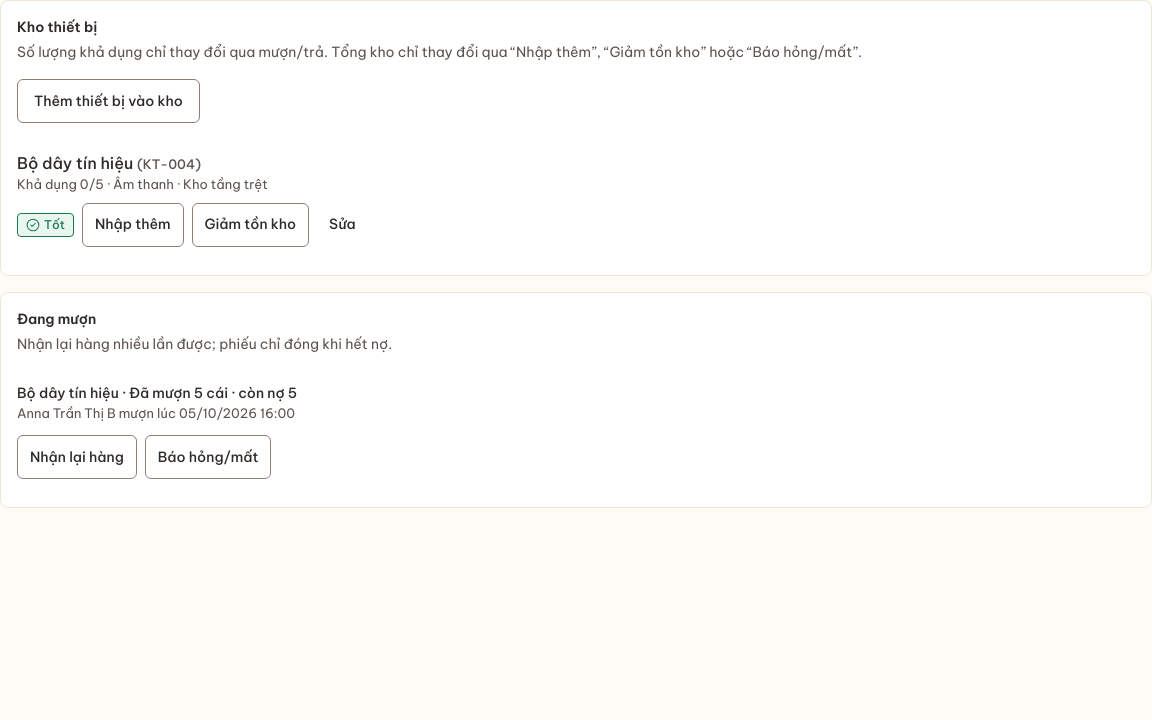
Scenario: Báo hỏng/mất — hộp xác nhận là hàng rào DUY NHẤT (D-93, AC-M09-26) › chưa xác nhận thì KHÔNG có gì được ghi
Step 1. Click the button "Báo hỏng/mất" → {"x": 208, "y": 457}, box [145,435,272,479]
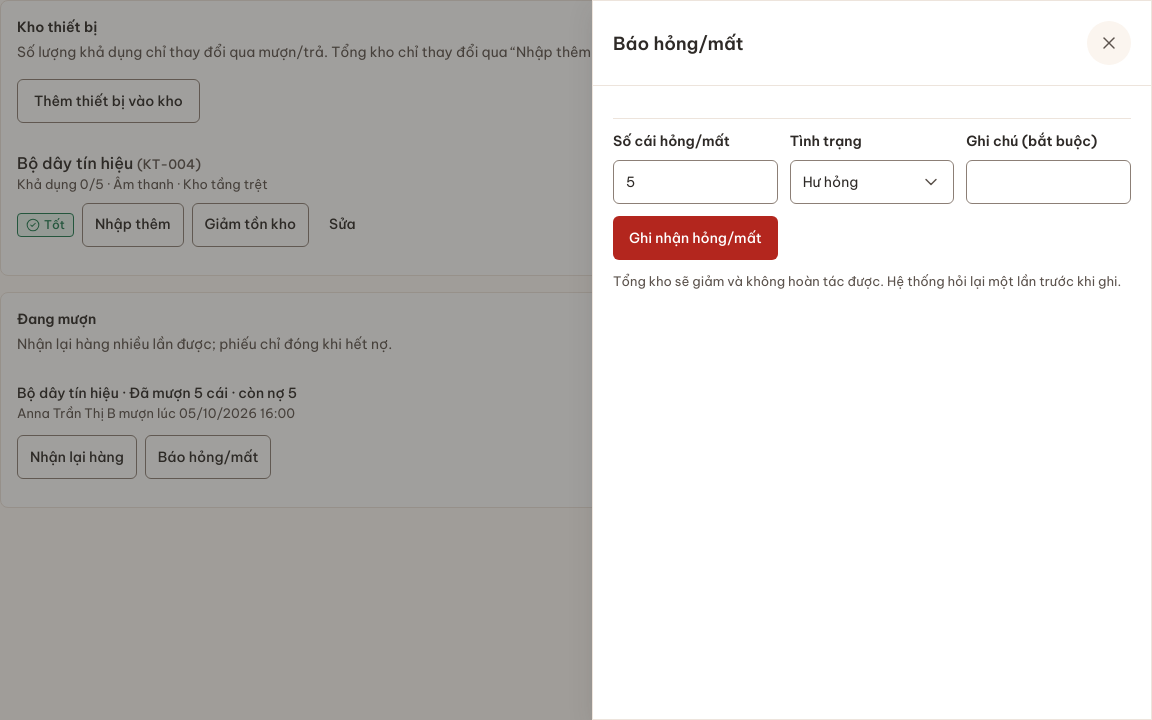
Step 2. Replace the text in the number field labelled "Số cái hỏng/mất" with "2" → {"x": 695, "y": 182}, box [613,160,778,204]
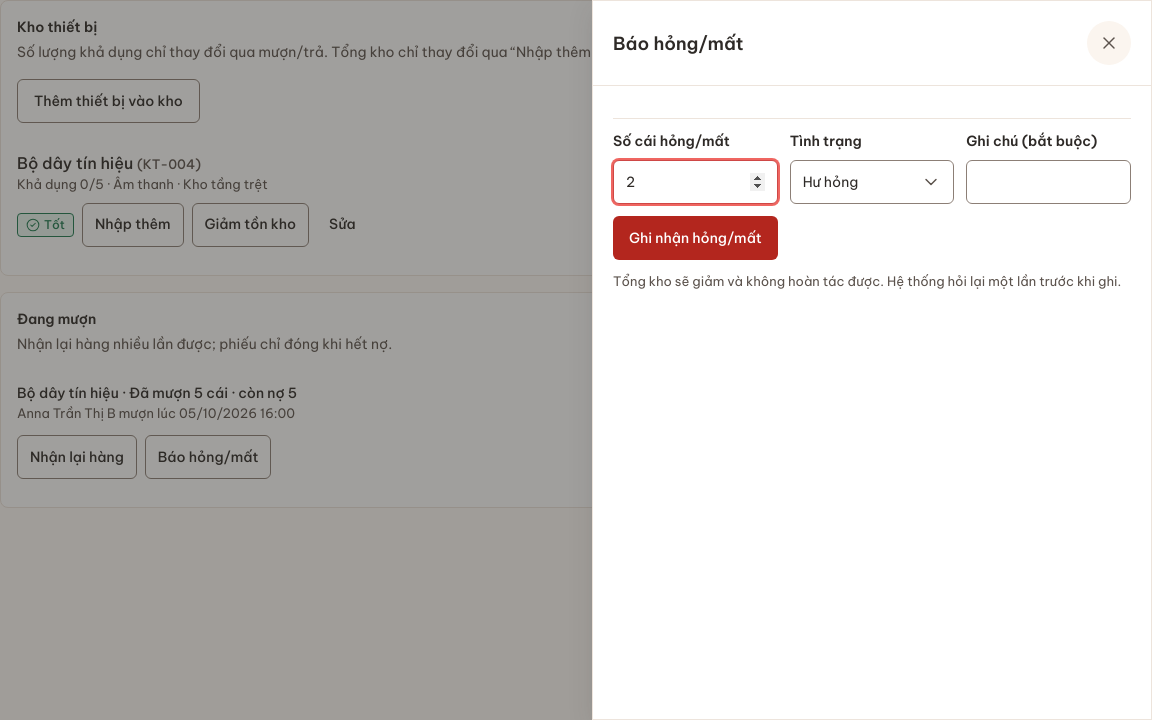
Step 3. Select "Mất" in the dropdown labelled "Tình trạng" → {"x": 826, "y": 141}, box [790,132,862,150]
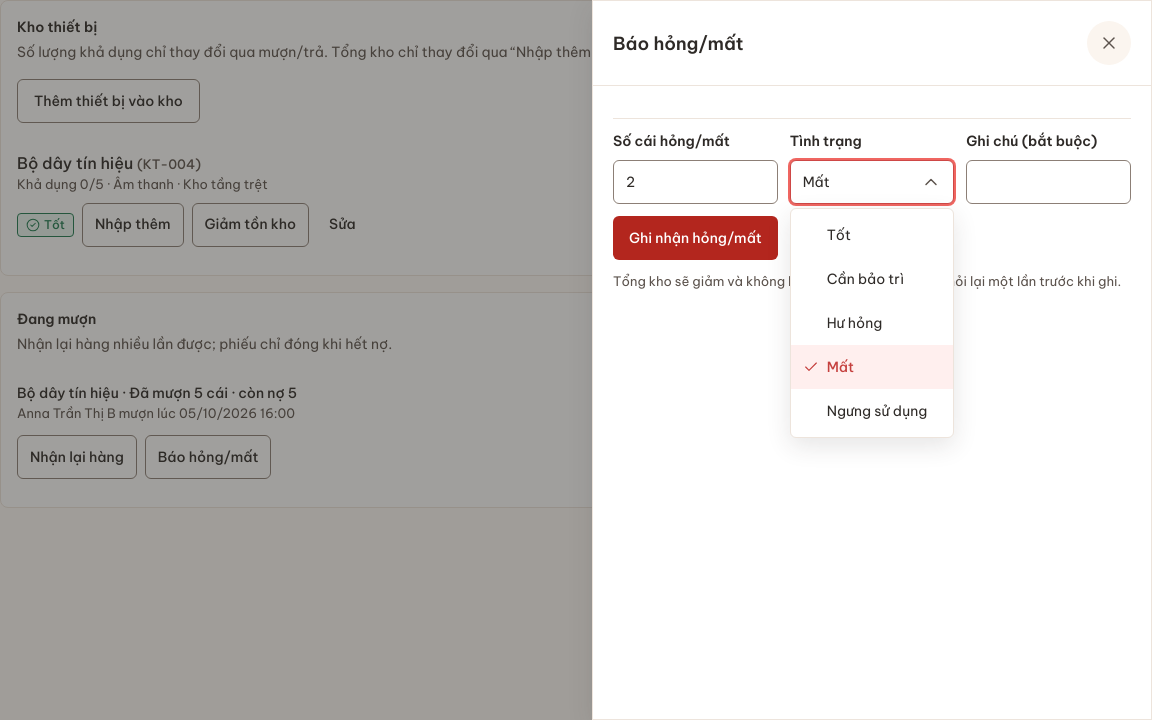
Step 4. Type "Mất trên đường chở về" into the field labelled "Ghi chú (bắt buộc)" → {"x": 1049, "y": 182}, box [966,160,1131,204]
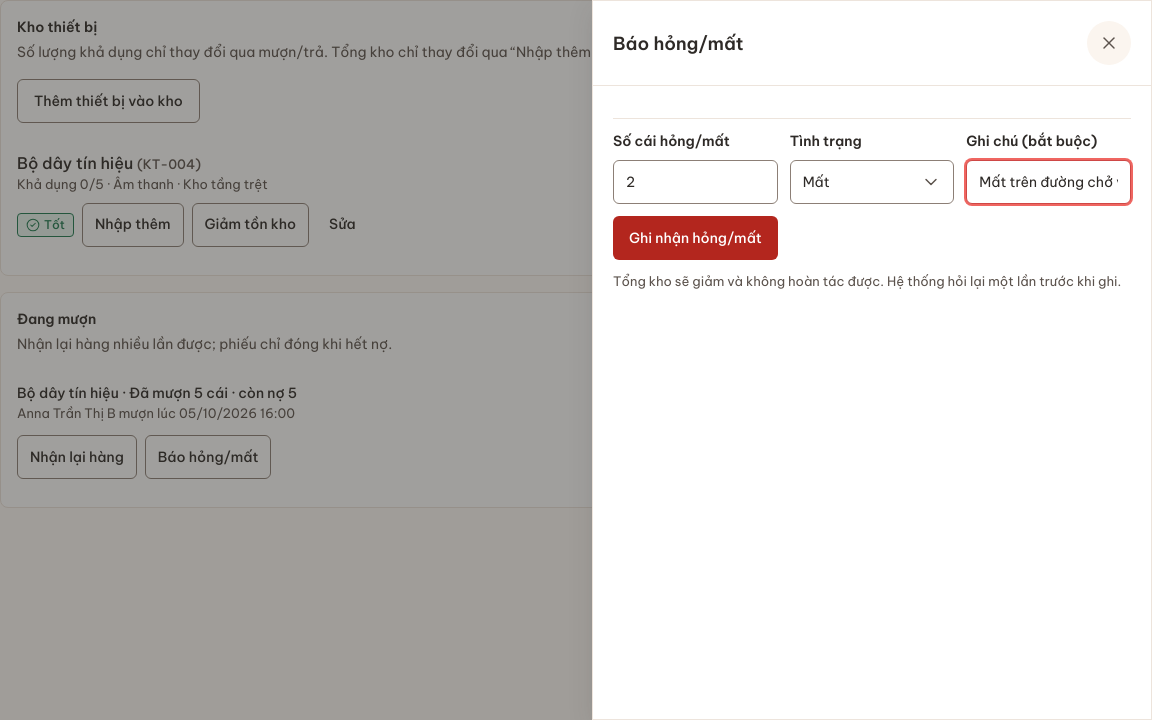
Step 5. Click the button "Ghi nhận hỏng/mất" → {"x": 695, "y": 238}, box [613,216,778,260]
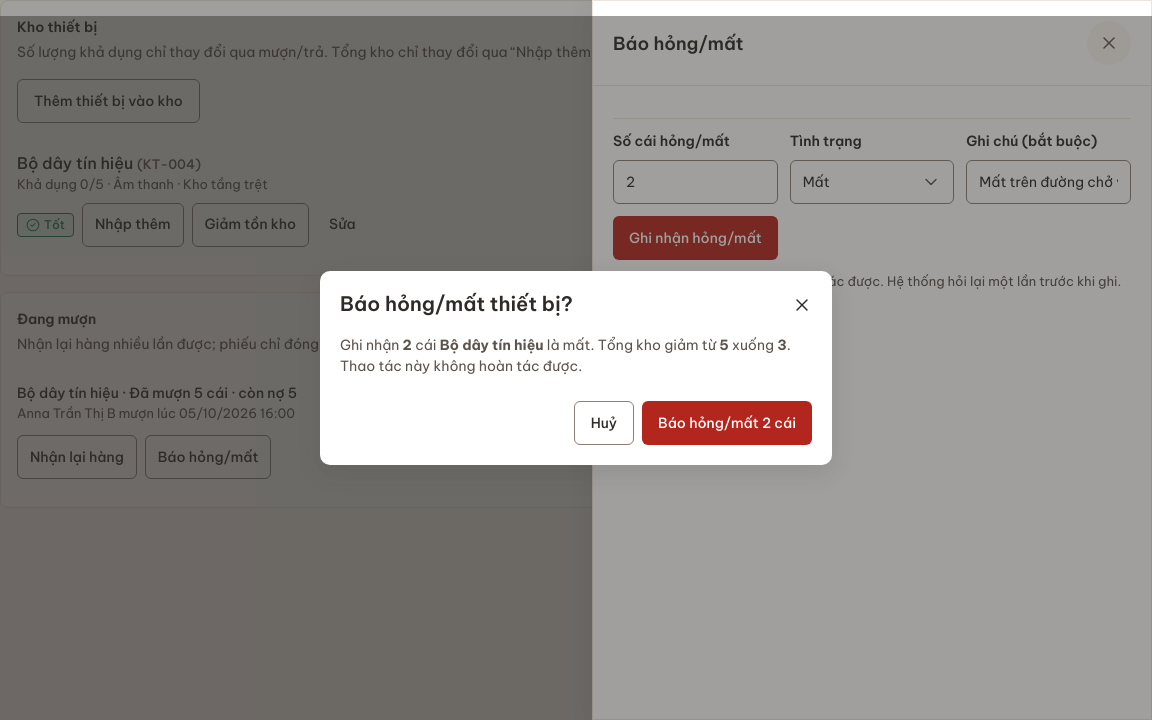
Step 6. Click the button "Huỷ" → {"x": 604, "y": 423}, box [574,401,634,445]
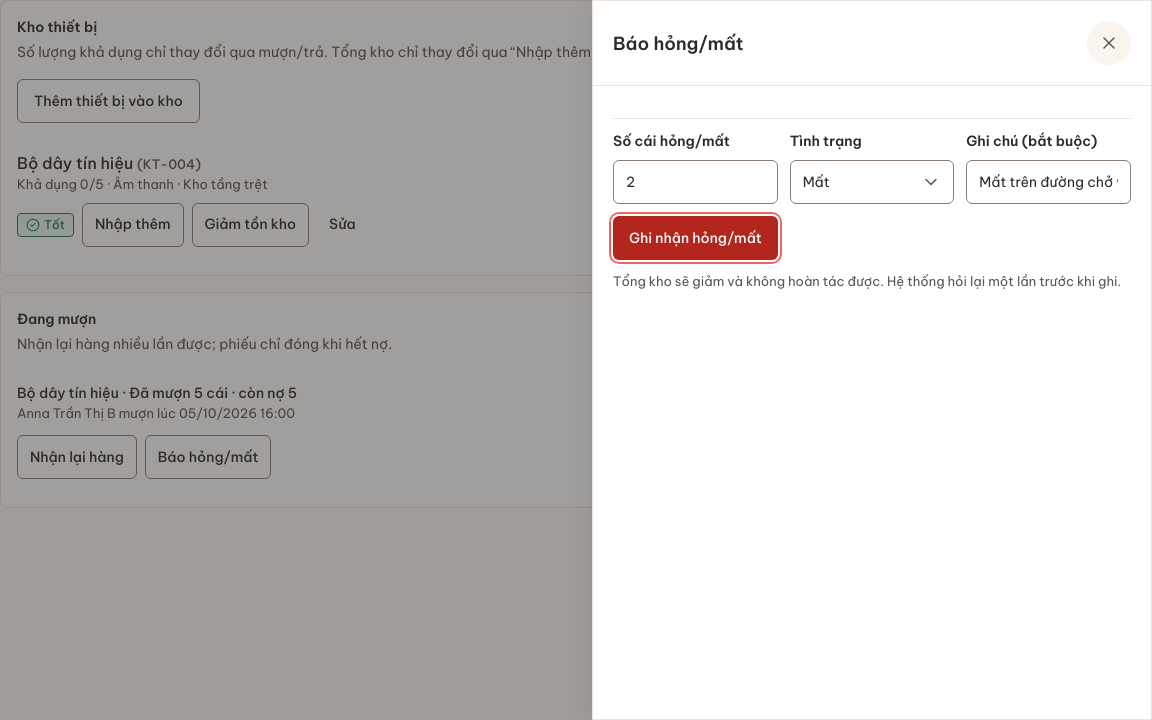
Now the heading "?" is gone
